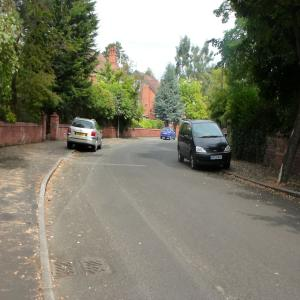Vehicle-registration-plate: (212, 156, 224, 162), (76, 133, 88, 137)
